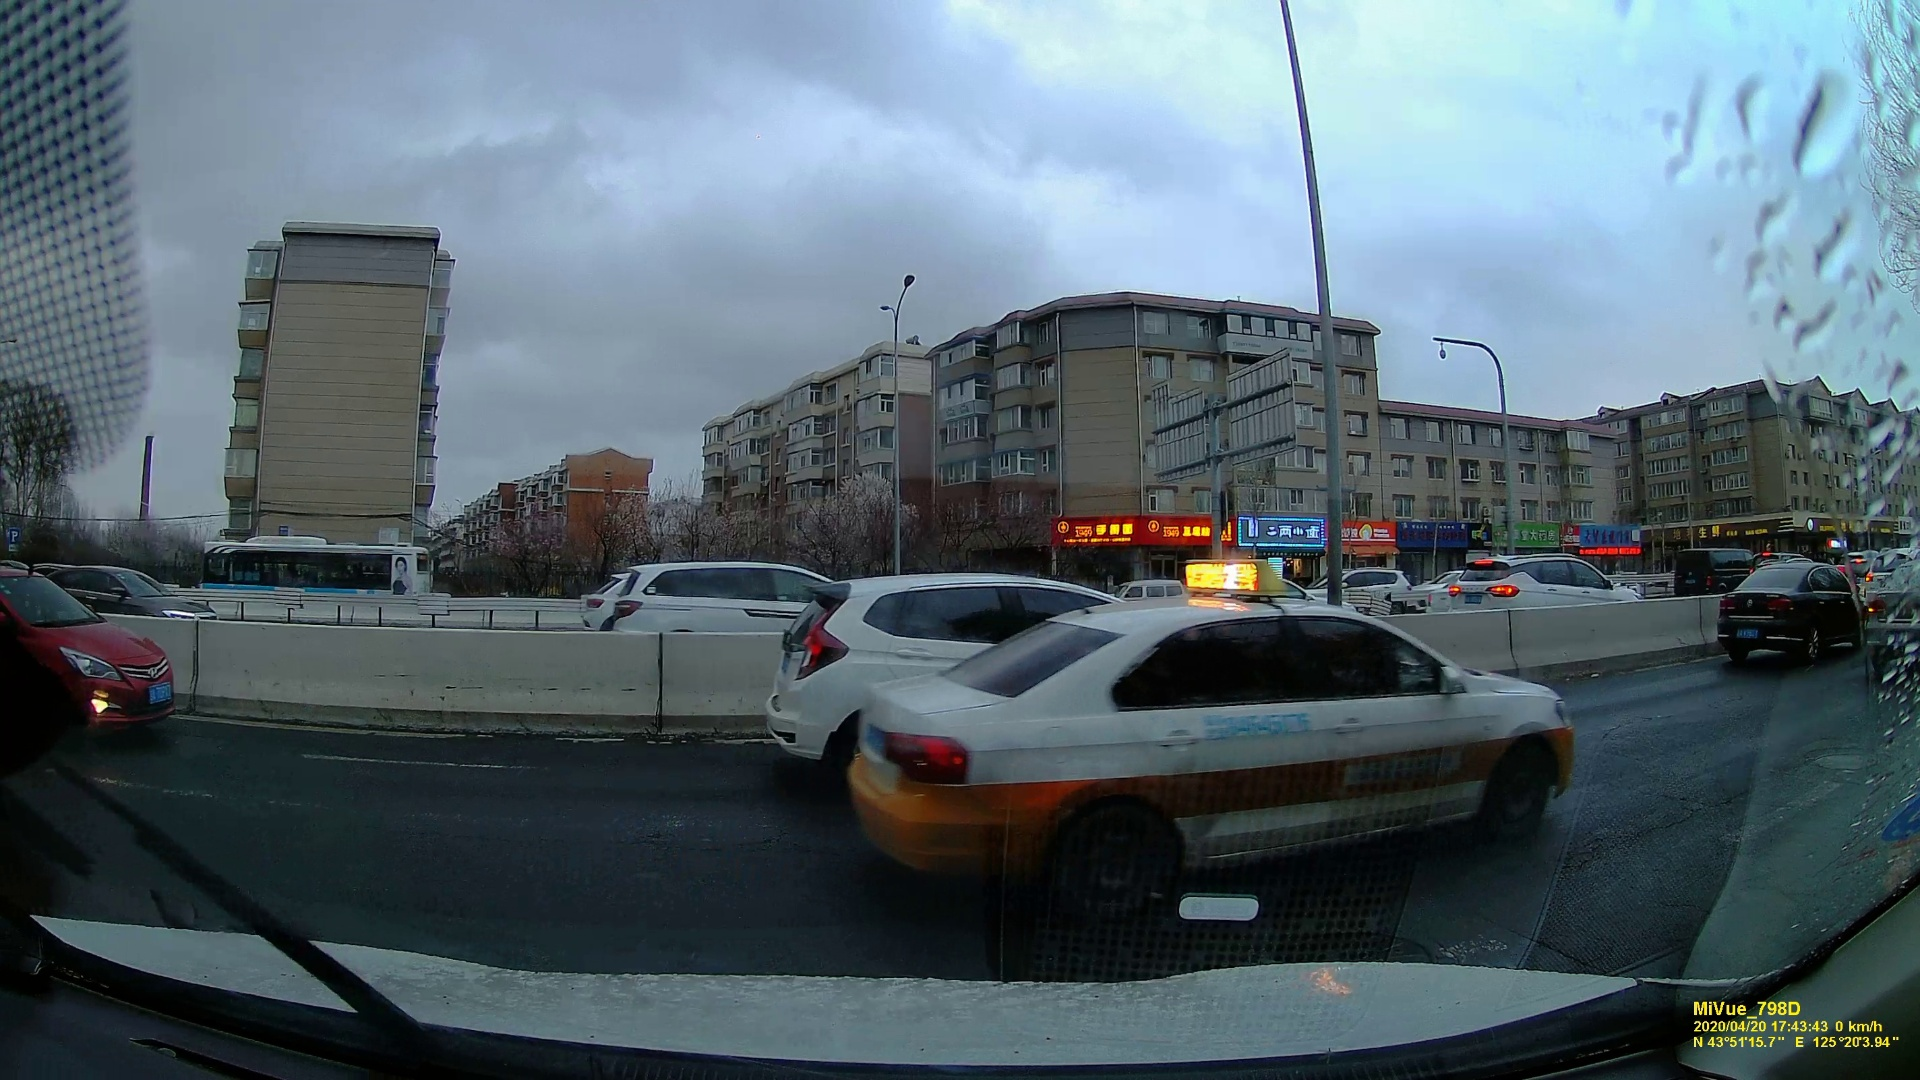bus: (200, 535, 435, 612)
minibus: (1672, 547, 1753, 600)
vehicle: (858, 600, 1577, 893), (770, 571, 973, 771), (8, 576, 179, 736), (1724, 556, 1873, 667), (611, 558, 767, 642), (1448, 555, 1642, 609), (1309, 568, 1410, 603), (1117, 580, 1187, 603)
